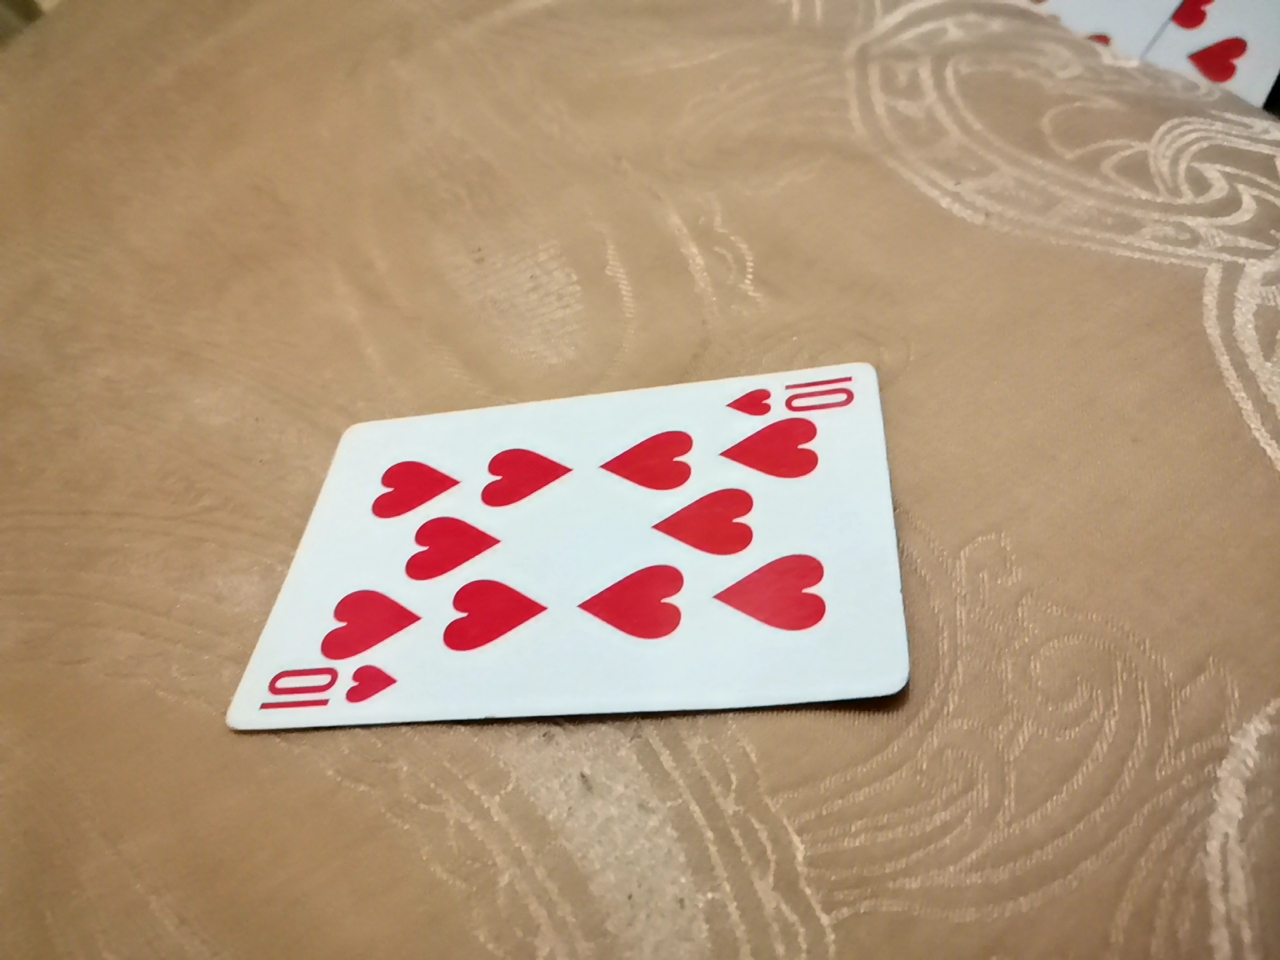hx 10: (238, 350, 913, 723)
